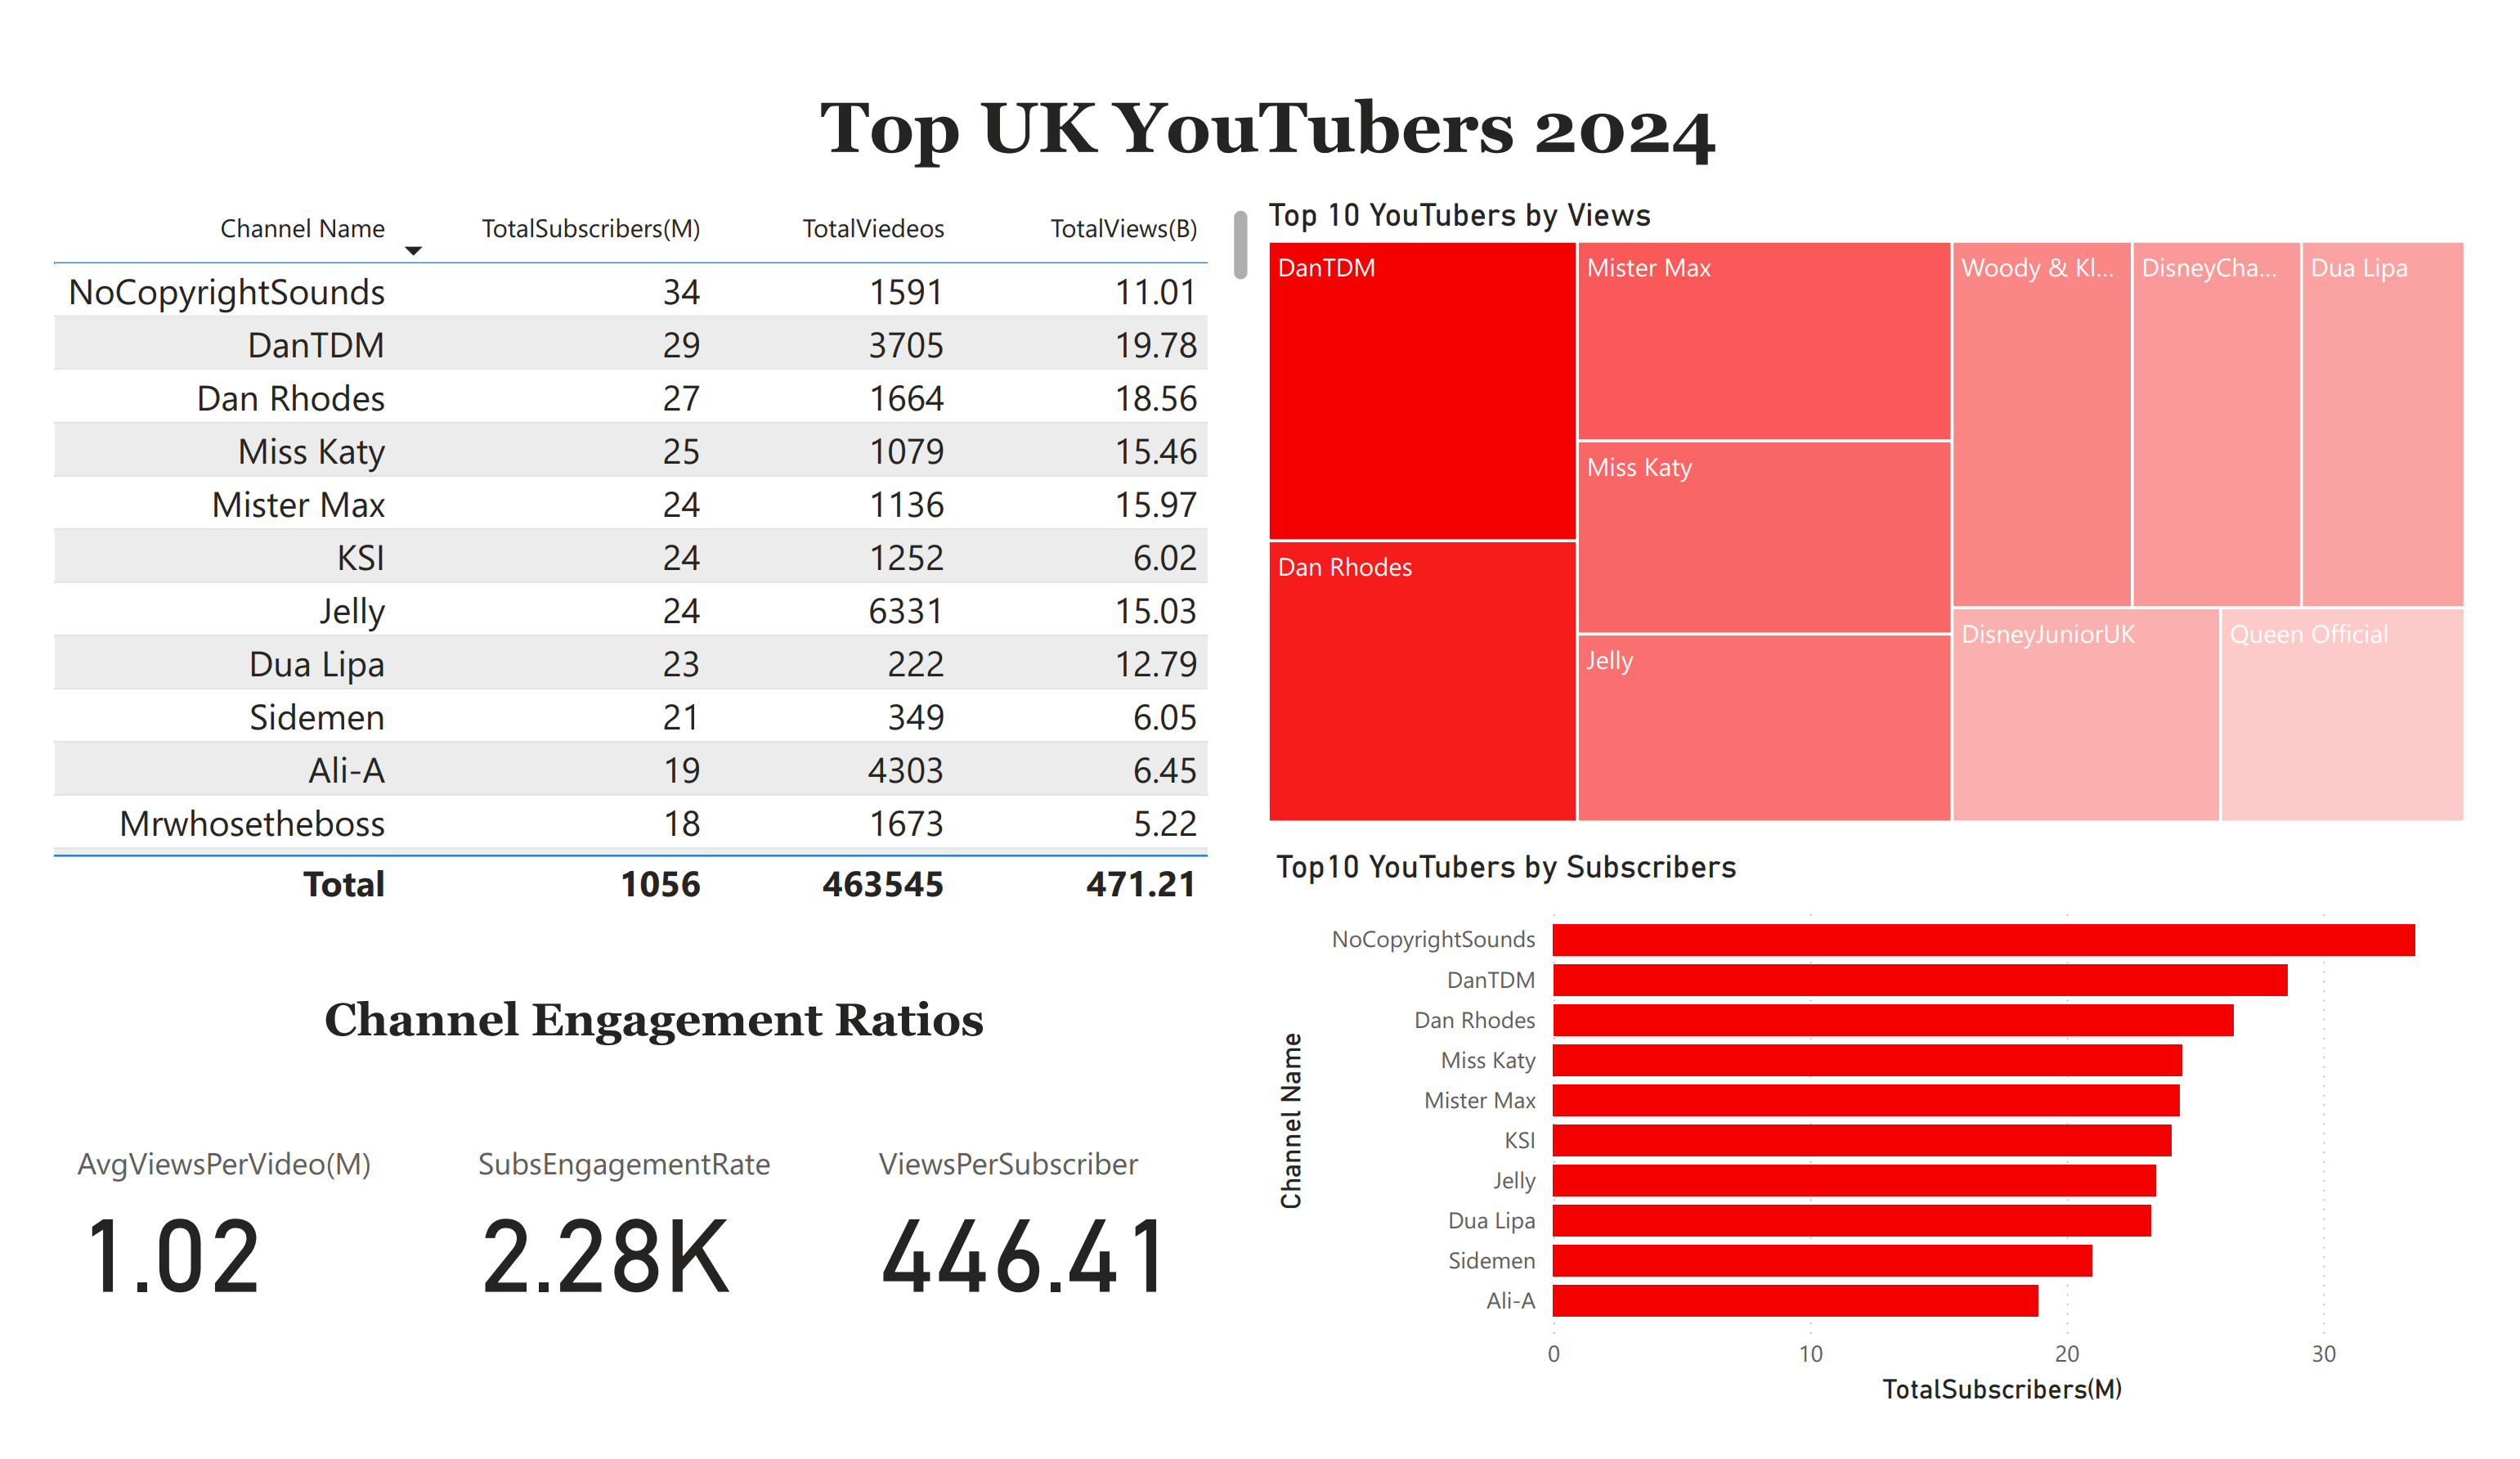

What the dashboard file says about the page in this screenshot:
{"tool":"powerbi","page":{"name":"Page 1","canvas":[1280,720],"ordinal":0},"visuals":[{"type":"textbox","box":[9.8,0,1270.7,78.7],"z":0},{"type":"tableEx","fields":{"Values":["view_uk_youtubers_2024.channel_name","view_uk_youtubers_2024.TotalSubscribers(M)","view_uk_youtubers_2024.TotalViedeos","view_uk_youtubers_2024.TotalViews(B)"]},"box":[0,81.1,640,377.6],"z":1000},{"type":"treemap","title":"Top 10 YouTubers by Views","fields":{"Group":["view_uk_youtubers_2024.channel_name"],"Values":["view_uk_youtubers_2024.TotalViews(B)"]},"box":[640,78.9,640,334.9],"z":2000},{"type":"cardVisual","title":"Channel Engagement Ratios","fields":{"Data":["view_uk_youtubers_2024.AvgViewsPerVideo(M)","view_uk_youtubers_2024.SubscriberEngagementRate","view_uk_youtubers_2024.ViewsPerSubscriber"]},"box":[0,499.2,644.3,221.9],"z":3000},{"type":"barChart","title":"Top10 YouTubers by Subscribers","fields":{"Category":["view_uk_youtubers_2024.channel_name"],"Y":["view_uk_youtubers_2024.TotalSubscribers(M)"]},"box":[644,422,636,298],"z":4000}]}

Visuals, with their boxes on the page's 1280x720 design canvas (x1, y1, x2, y2). These are canvas units, not pixel positions in the 2520x1459 screenshot, which may show the page scaled, cropped or inside an application window:
textbox: 10, 0, 1280, 79
tableEx - view_uk_youtubers_2024.channel_name x view_uk_youtubers_2024.TotalSubscribers(M): 0, 81, 640, 459
"Top 10 YouTubers by Views" treemap: 640, 79, 1280, 414
"Channel Engagement Ratios" cardVisual: 0, 499, 644, 721
"Top10 YouTubers by Subscribers" barChart: 644, 422, 1280, 720
